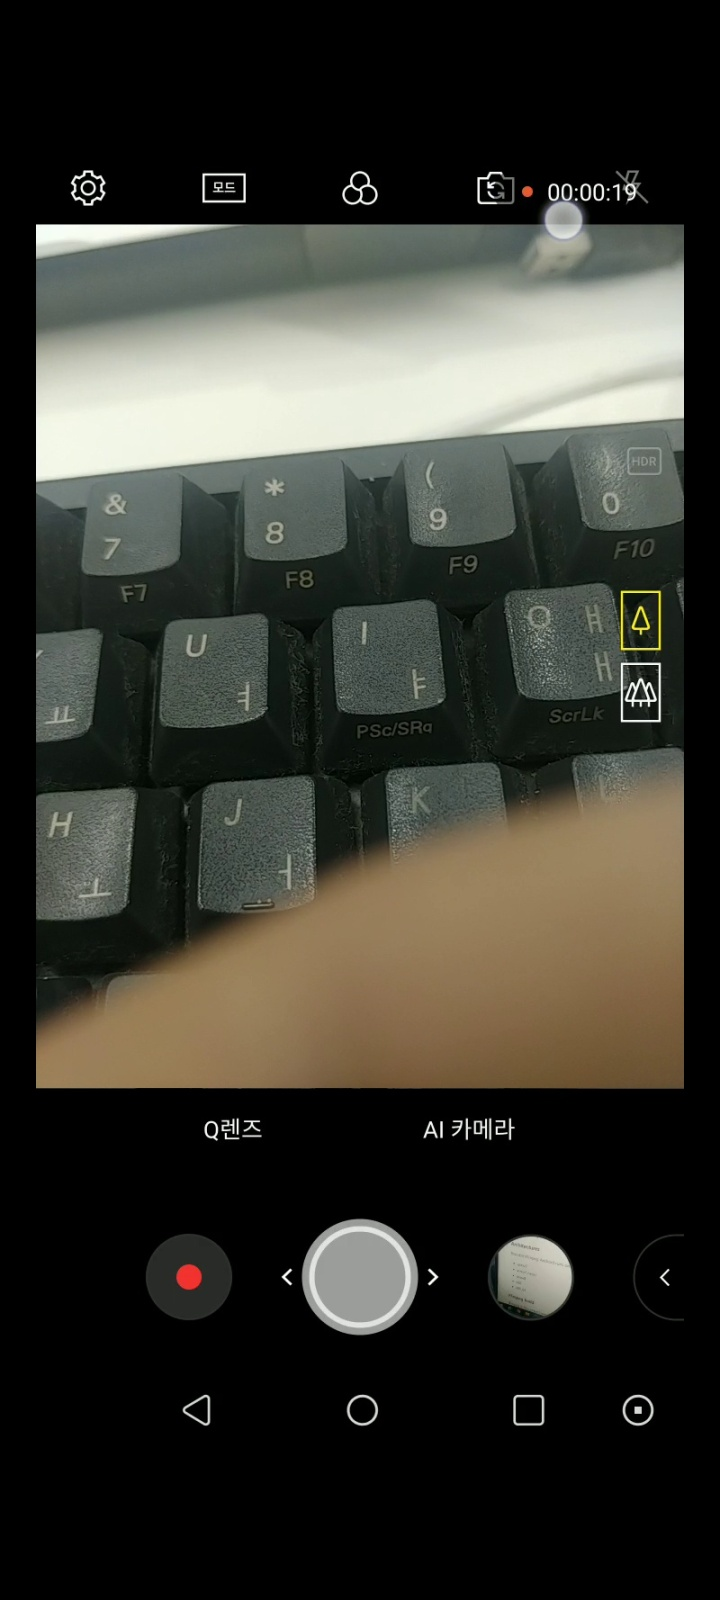Cursor: (541, 199, 586, 245)
